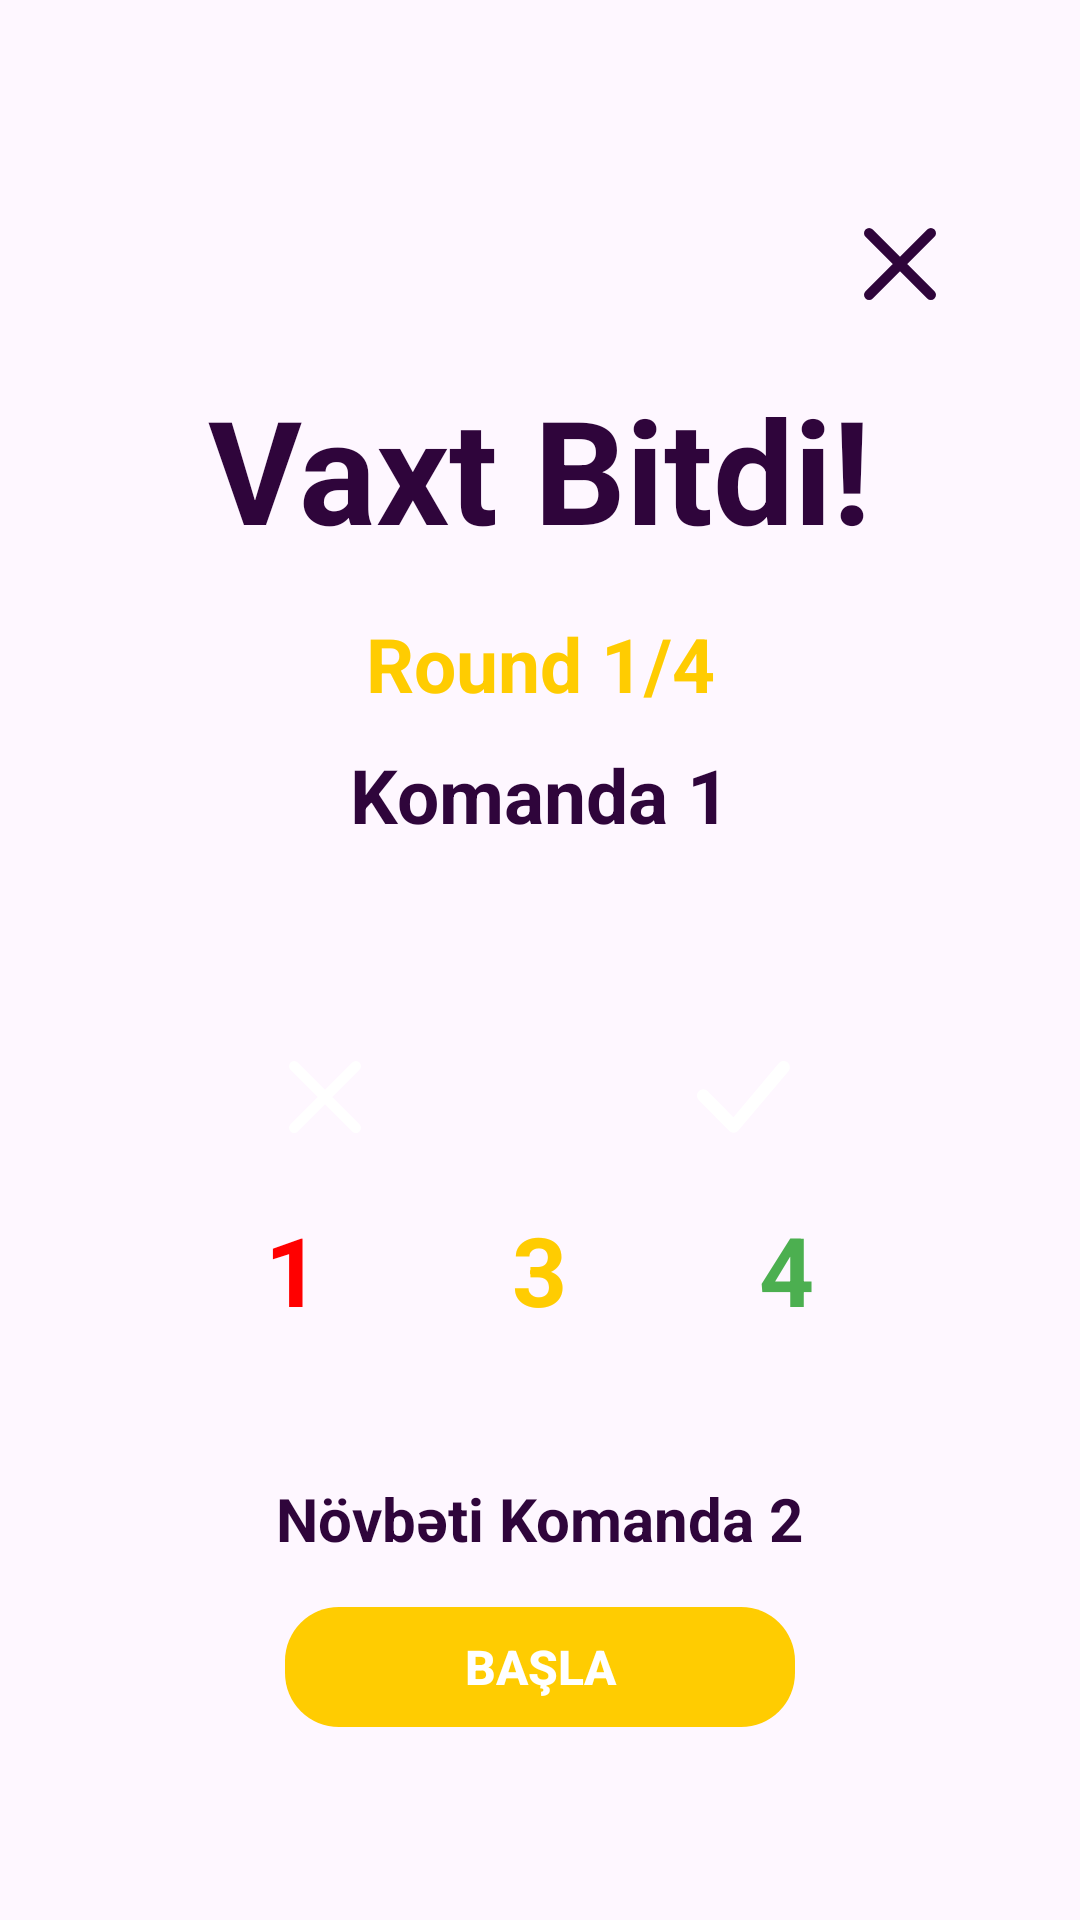

Icon bounding boxes for this 1080px×1920px phone screenshot, format detection(x1, y1, x2, y2):
cancel: detection(864, 228, 936, 300)
